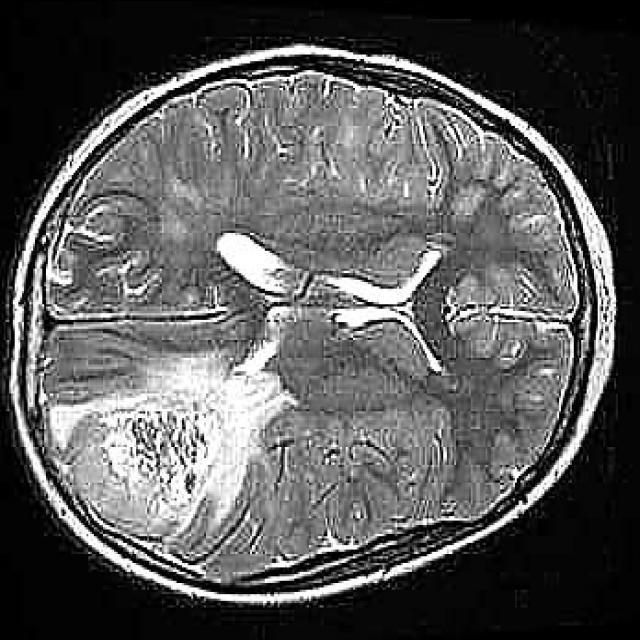tumor: (44, 375, 287, 560)
